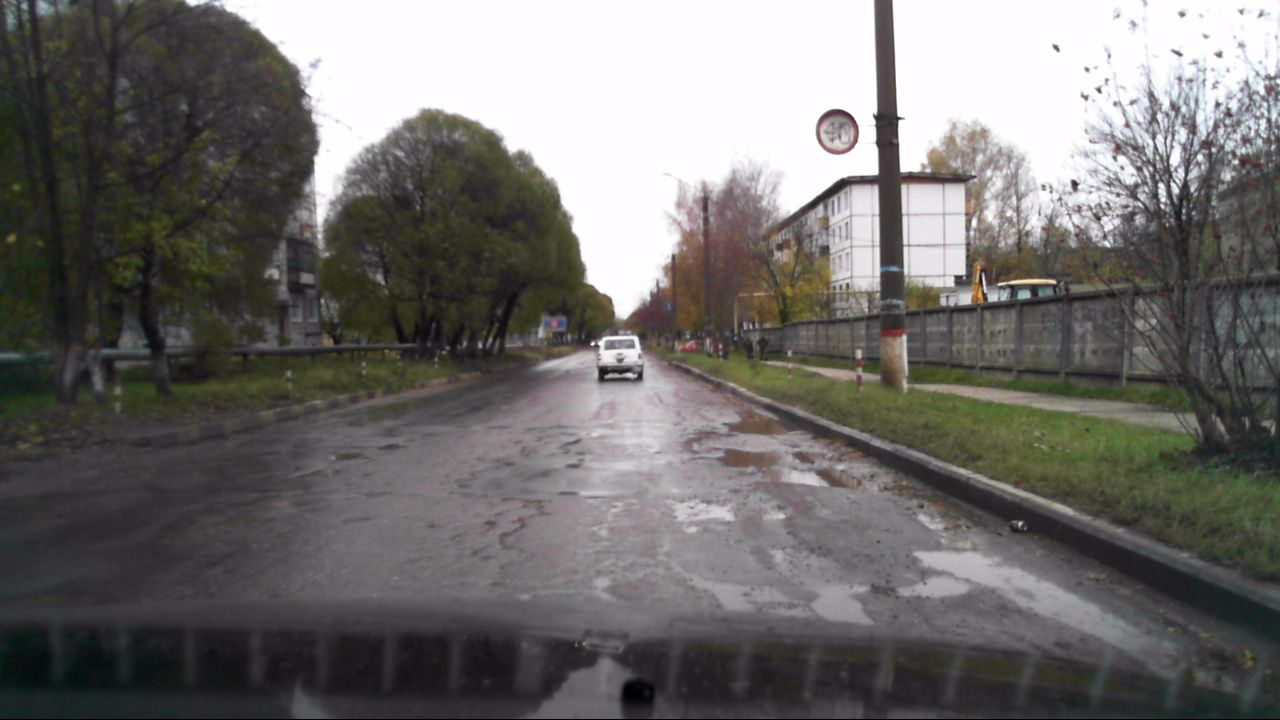speed_warning_40: (815, 108, 859, 155)
